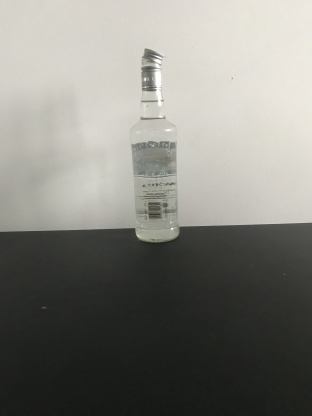nakretka: (139, 46, 164, 90)
